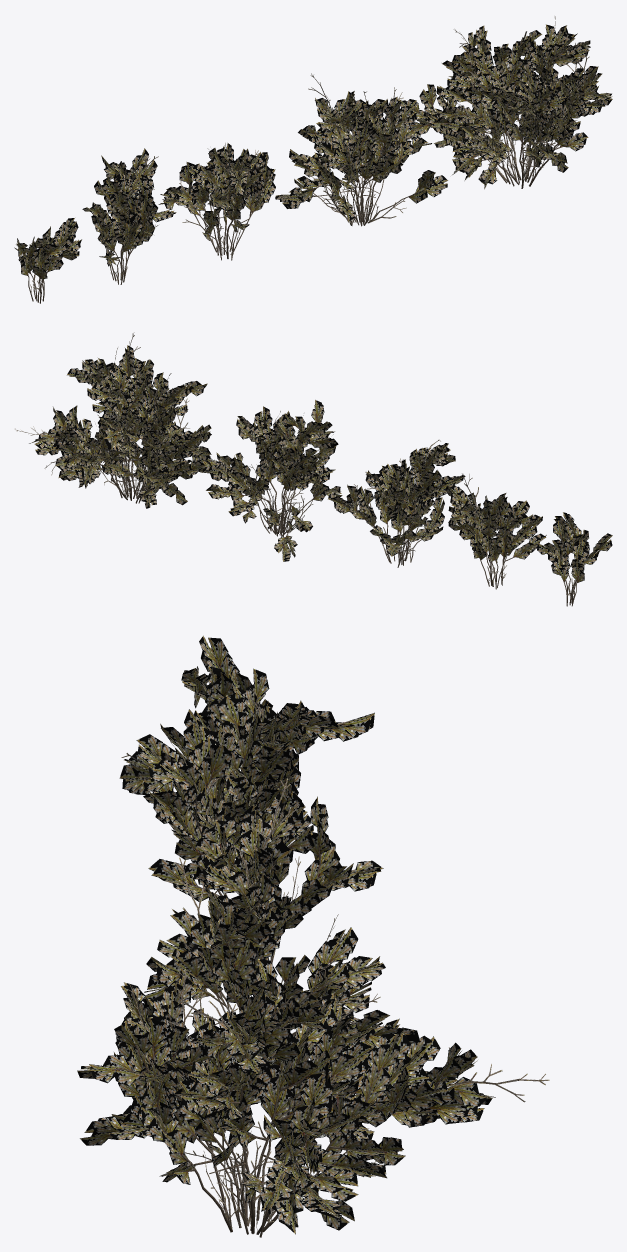
Rendered from rooibos_bush.glb.
3 views of the same model, one above another, from view 1: azimuth 30°, elevation 25°; view 2: azimuth 150°, elevation 25°; view 3: azimuth 270°, elevation 25° (orthographic). The views are drawn at different scales.
Parts seen in each view (by area): view 1: wild_rooibos_bush_a, wild_rooibos_bush_b, wild_rooibos_bush_c, wild_rooibos_bush_d, wild_rooibos_bush_e; view 2: wild_rooibos_bush_a, wild_rooibos_bush_b, wild_rooibos_bush_c, wild_rooibos_bush_d, wild_rooibos_bush_e; view 3: wild_rooibos_bush_a, wild_rooibos_bush_b, wild_rooibos_bush_c, wild_rooibos_bush_d, wild_rooibos_bush_e.
Part boxes in pixels (bbox=[...]): wild_rooibos_bush_a: bbox=[397, 16, 612, 189]; wild_rooibos_bush_b: bbox=[275, 73, 447, 226]; wild_rooibos_bush_c: bbox=[158, 143, 275, 260]; wild_rooibos_bush_d: bbox=[82, 148, 176, 284]; wild_rooibos_bush_e: bbox=[14, 218, 81, 303]; wild_rooibos_bush_a: bbox=[14, 332, 218, 508]; wild_rooibos_bush_b: bbox=[201, 400, 342, 561]; wild_rooibos_bush_c: bbox=[328, 439, 465, 567]; wild_rooibos_bush_d: bbox=[445, 473, 546, 589]; wild_rooibos_bush_e: bbox=[537, 512, 612, 606]; wild_rooibos_bush_a: bbox=[77, 958, 549, 1237]; wild_rooibos_bush_b: bbox=[142, 778, 385, 1038]; wild_rooibos_bush_c: bbox=[119, 718, 383, 963]; wild_rooibos_bush_d: bbox=[160, 668, 374, 811]; wild_rooibos_bush_e: bbox=[181, 635, 272, 755].
Size of the model in its own units: 2.28 by 0.5413 by 0.8434.
2 materials, 2 textured.
